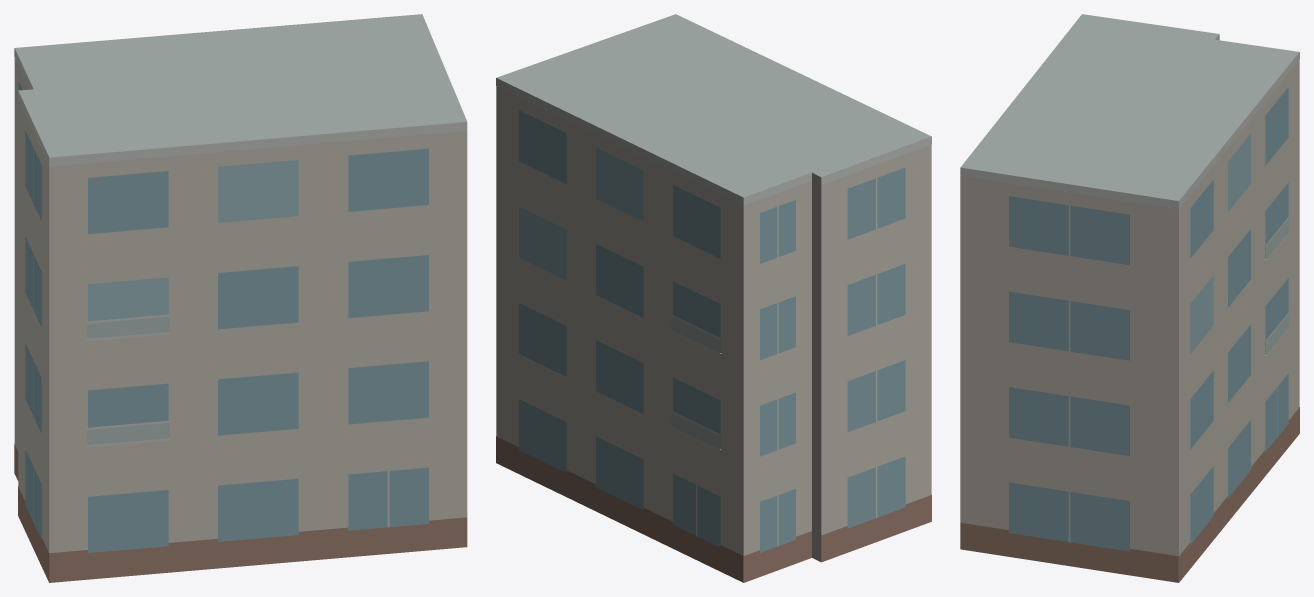
Rendered from survey-upis-32981460.glb.
3 views of the same model, side by side, from view 1: azimuth 30°, elevation 25°; view 2: azimuth 150°, elevation 25°; view 3: azimuth 270°, elevation 25° (orthographic). The views are drawn at different scales.
Visible parts, largest first — view 1: survey-upis-32981460.tmp; view 2: survey-upis-32981460.tmp; view 3: survey-upis-32981460.tmp.
Boxes of the visible parts, x1,y1,x2,y2 form: survey-upis-32981460.tmp: (14,14,467,582); survey-upis-32981460.tmp: (496,14,931,582); survey-upis-32981460.tmp: (960,14,1299,582).
Size of the model in its own units: 12.3 by 11.7 by 9.43.
